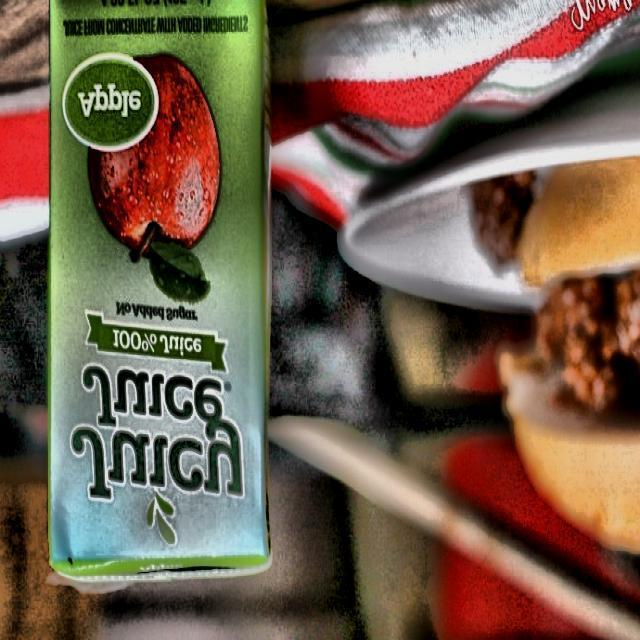cardboard: (46, 0, 272, 587)
